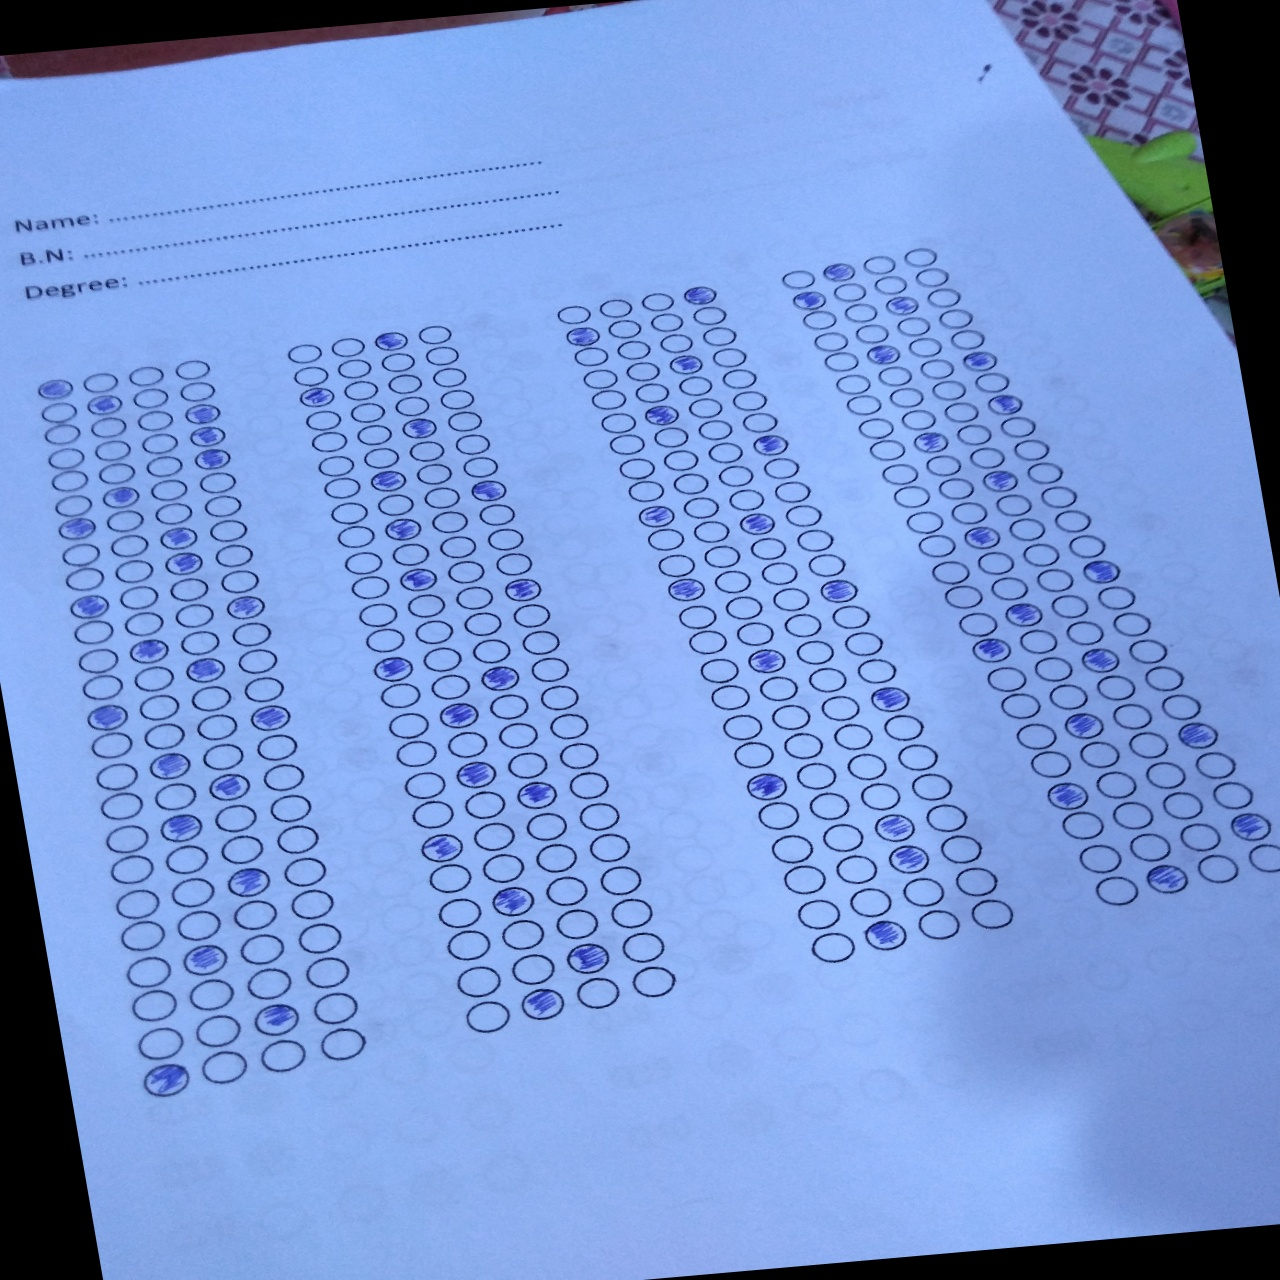not-c: (1056, 806, 1112, 845), (315, 1024, 368, 1065), (134, 1020, 186, 1061), (191, 1010, 244, 1051), (236, 930, 288, 971), (1075, 839, 1130, 878), (1125, 825, 1180, 864), (1176, 817, 1231, 856), (1193, 850, 1248, 888), (256, 1035, 308, 1075), (121, 952, 176, 989), (1085, 872, 1141, 910), (197, 1046, 248, 1085), (129, 987, 182, 1024), (583, 828, 635, 865), (843, 748, 896, 785), (842, 881, 896, 918), (159, 840, 211, 878), (442, 926, 495, 962), (890, 738, 942, 775), (765, 830, 816, 867), (476, 847, 527, 884), (452, 962, 504, 999), (830, 851, 881, 887), (857, 775, 908, 811), (542, 873, 594, 908), (462, 999, 515, 1034), (778, 863, 831, 898), (168, 873, 218, 910), (629, 964, 680, 1000), (553, 905, 604, 941), (900, 874, 951, 911), (921, 798, 972, 835), (934, 831, 985, 867), (617, 930, 668, 965), (508, 949, 559, 985), (913, 907, 965, 942), (806, 928, 858, 964), (424, 860, 476, 896), (951, 862, 1002, 897), (879, 710, 931, 745), (113, 886, 162, 922), (967, 896, 1017, 931), (608, 896, 659, 931), (593, 862, 644, 897), (498, 915, 549, 951), (573, 973, 624, 1008), (436, 896, 486, 931), (818, 821, 869, 856), (794, 896, 844, 931), (908, 770, 959, 805), (530, 840, 581, 874), (280, 853, 329, 888), (245, 965, 294, 1000), (302, 952, 352, 987), (295, 921, 345, 956), (172, 908, 222, 944), (230, 896, 280, 930), (290, 886, 338, 921), (118, 915, 166, 951), (311, 990, 360, 1024), (239, 672, 290, 704), (188, 683, 238, 716), (274, 821, 321, 856), (217, 831, 264, 866), (87, 728, 135, 762), (188, 978, 236, 1012), (151, 779, 200, 812), (103, 823, 152, 856), (199, 740, 246, 774), (459, 787, 508, 819), (190, 712, 238, 744), (1029, 651, 1077, 683), (1108, 699, 1156, 731), (134, 692, 185, 722), (97, 791, 147, 823), (495, 720, 542, 753), (754, 799, 801, 832), (94, 758, 141, 791), (1062, 615, 1109, 648), (234, 645, 282, 676), (554, 741, 602, 772), (418, 645, 467, 676), (141, 721, 189, 753), (105, 852, 154, 884), (1141, 758, 1189, 790), (913, 529, 959, 561), (1062, 529, 1108, 561), (1241, 843, 1280, 881), (765, 703, 812, 735), (755, 674, 802, 706), (733, 619, 779, 651), (719, 592, 765, 624), (696, 655, 743, 687), (685, 628, 731, 660), (524, 810, 571, 842), (795, 761, 842, 792), (259, 762, 306, 794), (252, 731, 299, 763), (410, 617, 457, 648), (399, 765, 445, 797), (212, 803, 259, 835), (828, 598, 874, 629), (819, 693, 866, 724), (828, 720, 874, 751), (883, 712, 930, 743), (1012, 719, 1058, 750), (1160, 789, 1207, 821), (1015, 626, 1062, 658), (988, 572, 1035, 604), (1046, 591, 1092, 622), (1123, 727, 1170, 758), (1092, 673, 1139, 704), (1142, 661, 1189, 693), (1105, 607, 1152, 639), (1190, 748, 1237, 779), (794, 522, 840, 553), (1005, 515, 1051, 546), (384, 712, 433, 742), (486, 692, 532, 723), (727, 740, 772, 771), (720, 712, 765, 743), (469, 821, 515, 852), (444, 729, 490, 761), (770, 584, 816, 615), (756, 557, 802, 588), (980, 663, 1026, 695), (805, 663, 851, 695), (1110, 798, 1156, 830), (925, 557, 971, 588), (901, 504, 947, 536), (465, 635, 515, 665), (535, 683, 581, 714), (574, 799, 621, 830), (567, 770, 614, 801), (706, 681, 753, 712), (804, 790, 851, 821), (778, 729, 825, 760), (265, 791, 312, 822), (427, 670, 474, 701), (408, 799, 455, 830), (392, 738, 438, 769), (1026, 749, 1073, 779), (840, 627, 887, 658), (855, 655, 901, 686), (1077, 738, 1124, 769), (1043, 682, 1090, 713), (938, 581, 985, 612), (1158, 692, 1205, 722), (1125, 635, 1172, 666), (1048, 504, 1095, 535), (801, 549, 847, 579), (1033, 565, 1080, 595), (458, 608, 504, 639), (504, 749, 550, 779), (545, 712, 591, 742), (770, 702, 816, 733), (375, 681, 421, 712), (996, 688, 1042, 719), (1208, 779, 1254, 810), (1091, 769, 1137, 799), (973, 547, 1019, 578), (952, 608, 998, 639), (1091, 581, 1137, 612), (1032, 481, 1077, 511), (1020, 540, 1065, 571), (876, 463, 920, 493), (406, 592, 451, 621), (132, 661, 175, 693), (124, 361, 169, 390), (517, 627, 561, 656), (339, 376, 384, 404), (46, 444, 91, 472), (114, 584, 159, 612), (101, 508, 147, 536), (91, 462, 137, 490), (946, 495, 988, 525), (205, 516, 248, 545), (173, 600, 217, 629), (359, 444, 406, 471), (331, 356, 377, 383), (931, 474, 978, 501), (170, 354, 215, 382), (210, 542, 254, 570), (141, 452, 185, 481), (173, 377, 218, 406), (1024, 456, 1065, 486), (990, 489, 1032, 519), (999, 411, 1040, 442), (1012, 436, 1053, 467), (527, 655, 570, 685), (792, 636, 835, 666), (781, 610, 823, 639), (230, 620, 275, 647), (350, 422, 396, 449), (346, 573, 392, 600), (340, 550, 386, 577), (59, 539, 104, 566), (47, 468, 93, 495), (39, 422, 84, 449), (111, 558, 157, 585), (76, 647, 122, 674), (87, 411, 130, 440), (79, 369, 122, 397), (452, 584, 496, 612), (675, 602, 719, 631), (967, 444, 1008, 474), (973, 367, 1014, 396), (196, 470, 240, 497), (636, 286, 681, 313), (415, 318, 459, 345), (324, 332, 368, 359), (301, 407, 346, 434), (365, 626, 409, 653), (356, 600, 401, 627), (334, 523, 379, 550), (329, 501, 374, 527), (320, 472, 365, 499), (314, 451, 359, 478), (306, 431, 350, 458), (70, 618, 115, 645), (63, 565, 108, 592), (178, 629, 223, 656), (81, 673, 125, 700), (390, 542, 435, 568), (373, 492, 418, 518), (121, 612, 166, 638), (108, 532, 154, 558), (217, 568, 260, 595), (553, 298, 597, 325), (36, 399, 80, 425), (282, 339, 326, 366), (132, 407, 176, 434), (129, 386, 172, 413), (908, 263, 952, 290), (347, 400, 392, 425), (49, 492, 94, 518), (199, 492, 241, 519), (571, 343, 613, 370), (290, 361, 332, 388), (758, 452, 801, 479), (853, 413, 896, 440), (429, 509, 472, 535), (586, 386, 629, 411), (435, 532, 478, 558), (906, 334, 949, 360), (952, 421, 995, 447), (139, 431, 181, 458), (168, 576, 209, 602), (922, 454, 964, 481), (935, 304, 976, 331), (509, 602, 551, 628), (492, 550, 535, 576), (614, 455, 656, 481), (629, 379, 672, 404), (621, 359, 663, 384), (701, 543, 743, 568), (660, 448, 702, 474), (719, 367, 761, 393), (701, 324, 743, 349), (748, 535, 790, 560), (840, 392, 883, 417), (831, 372, 873, 397), (810, 331, 852, 356), (898, 407, 940, 433), (947, 325, 989, 350), (900, 244, 942, 270), (435, 387, 478, 411), (406, 437, 449, 462), (437, 533, 481, 558), (578, 367, 621, 392), (393, 393, 434, 418), (413, 461, 454, 486), (678, 373, 719, 399), (783, 501, 824, 526), (866, 437, 907, 463), (874, 361, 915, 387), (930, 376, 971, 402), (942, 397, 983, 423), (425, 365, 470, 388), (386, 372, 428, 396), (475, 503, 517, 527), (452, 431, 495, 456), (445, 410, 488, 435), (422, 484, 464, 509), (445, 558, 488, 583), (625, 478, 667, 503), (649, 425, 692, 450), (655, 553, 697, 578), (644, 526, 686, 551), (723, 486, 765, 511), (716, 463, 758, 488), (704, 440, 747, 464), (695, 417, 737, 442), (683, 395, 726, 420), (712, 568, 754, 593), (667, 472, 709, 497), (771, 479, 813, 504), (727, 387, 769, 411), (710, 343, 753, 368), (819, 349, 862, 374), (91, 440, 132, 464), (377, 350, 418, 375), (484, 526, 525, 551), (461, 452, 502, 477), (598, 409, 639, 434), (690, 519, 731, 544), (681, 496, 722, 520), (738, 410, 779, 435), (886, 384, 927, 409), (915, 356, 956, 381), (890, 484, 932, 508), (924, 286, 966, 309), (422, 343, 462, 368), (607, 431, 648, 455), (154, 501, 192, 525), (149, 478, 188, 503), (594, 297, 636, 319), (602, 316, 642, 340), (646, 309, 686, 333), (860, 252, 900, 275), (840, 301, 881, 324), (141, 433, 179, 456), (690, 304, 729, 327), (893, 315, 933, 338), (870, 271, 910, 293), (799, 308, 839, 331), (829, 280, 869, 302), (777, 268, 817, 291), (614, 339, 652, 362), (851, 322, 892, 343), (658, 331, 695, 353)
taken-c: (138, 1060, 198, 1099), (857, 917, 913, 955), (516, 982, 568, 1023), (1142, 860, 1197, 899), (248, 1000, 304, 1037), (1227, 805, 1280, 844), (561, 939, 617, 975), (881, 840, 937, 877), (179, 942, 233, 978), (864, 682, 917, 717), (141, 750, 198, 782), (1041, 778, 1092, 813), (491, 883, 539, 917), (224, 864, 272, 898), (871, 811, 922, 843), (367, 653, 417, 685), (1075, 644, 1123, 676), (1058, 710, 1107, 742), (999, 599, 1047, 631), (1175, 719, 1223, 750), (66, 590, 113, 621), (959, 520, 1006, 552), (1077, 556, 1125, 586), (812, 577, 862, 606), (206, 771, 256, 801), (478, 663, 525, 694), (246, 702, 293, 733), (515, 779, 561, 810), (125, 636, 173, 666), (417, 832, 465, 862), (742, 770, 790, 799), (156, 812, 204, 842), (79, 392, 128, 420), (454, 760, 501, 789), (438, 701, 485, 730), (84, 701, 129, 731), (971, 634, 1015, 665), (32, 375, 80, 403), (368, 325, 416, 353), (183, 655, 229, 685), (95, 483, 144, 510), (743, 647, 789, 675), (154, 525, 200, 552), (182, 399, 226, 427), (467, 477, 515, 503), (639, 401, 685, 428), (908, 429, 954, 456), (191, 445, 234, 474), (365, 468, 411, 493), (679, 281, 723, 308), (665, 350, 709, 377), (982, 390, 1027, 417), (186, 422, 229, 450), (52, 516, 97, 542), (663, 577, 709, 602), (222, 593, 267, 619), (749, 433, 792, 459), (382, 516, 425, 543), (981, 467, 1021, 496), (295, 384, 340, 410), (163, 551, 207, 577), (736, 511, 781, 537), (635, 503, 680, 529), (499, 577, 544, 602), (862, 341, 906, 367), (397, 566, 440, 593), (883, 290, 925, 316), (561, 322, 605, 348), (960, 348, 1005, 372), (817, 260, 860, 282), (399, 417, 440, 441), (787, 288, 829, 311)
